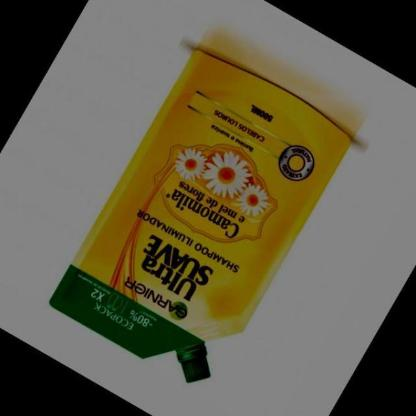Plastic Packaging: (48, 47, 352, 383)
